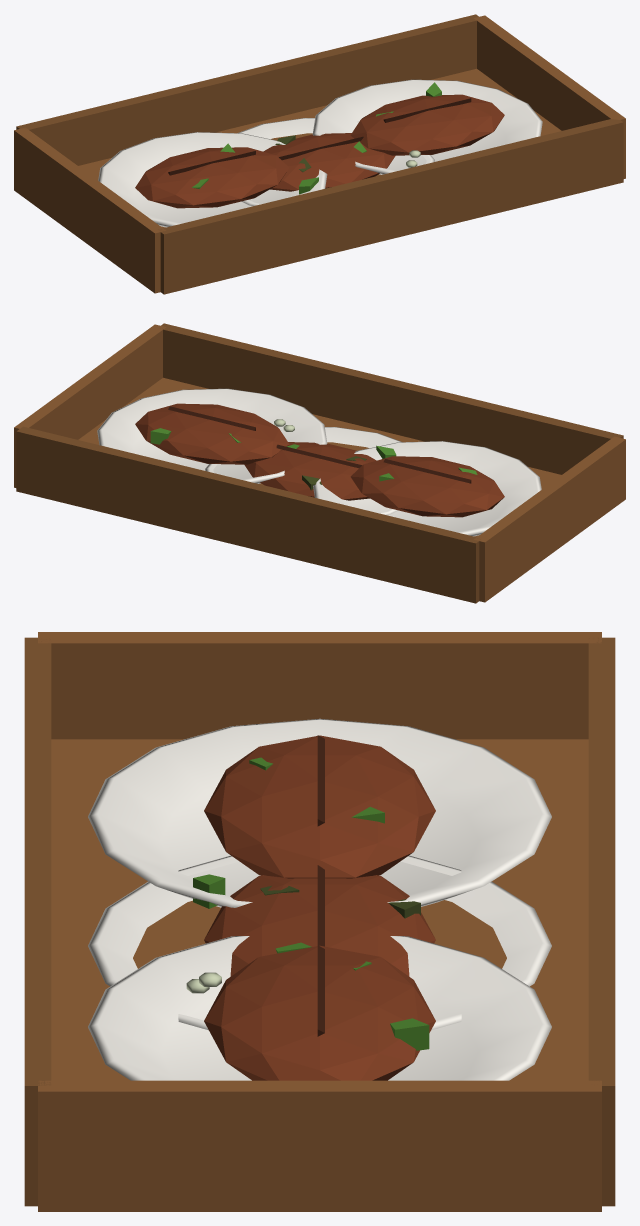
The model's file is Meat_Roast.fbx.
3 renders of one model, top to bottom at view 1: azimuth 30°, elevation 25°; view 2: azimuth 150°, elevation 25°; view 3: azimuth 270°, elevation 25°, orthographic. The views are drawn at different scales.
Visible parts, largest first — view 1: Meat_Roast__Stack, Meat_Roast; view 2: Meat_Roast__Stack, Meat_Roast; view 3: Meat_Roast__Stack, Meat_Roast, Meat_Roast__Rotten.
Part boxes in pixels (box(x1,y1,x2,y2)): Meat_Roast__Stack: box(14, 14, 625, 294); Meat_Roast: box(237, 118, 434, 206); Meat_Roast__Stack: box(14, 323, 625, 603); Meat_Roast: box(205, 427, 402, 515); Meat_Roast__Stack: box(24, 632, 615, 1211); Meat_Roast: box(88, 855, 551, 1030); Meat_Roast__Rotten: box(186, 885, 420, 993).
Bounding box in the file's own units: 0.328 × 0.04 × 0.178.
